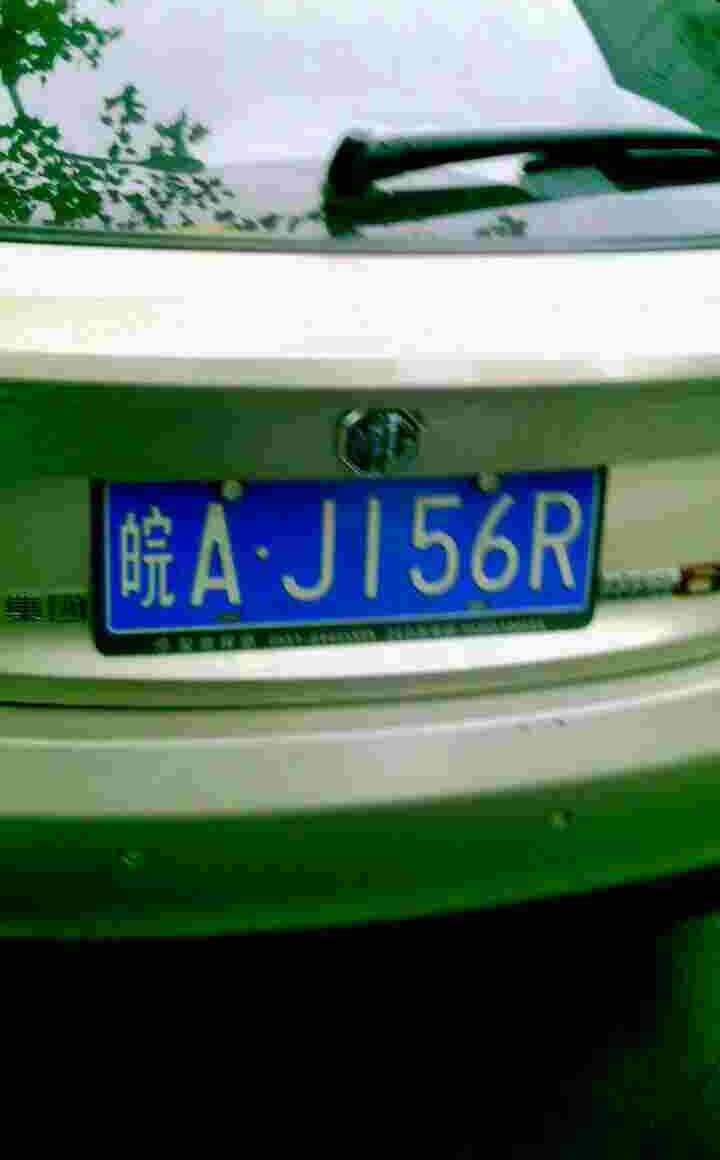car_blue: (92, 458, 610, 633)
